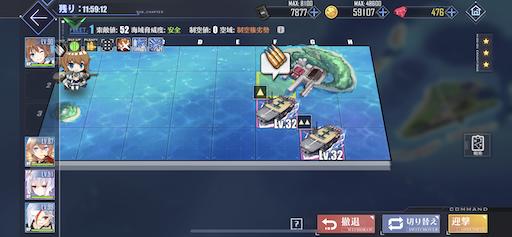lv1: (248, 85, 297, 128)
lv2: (297, 111, 353, 165)
